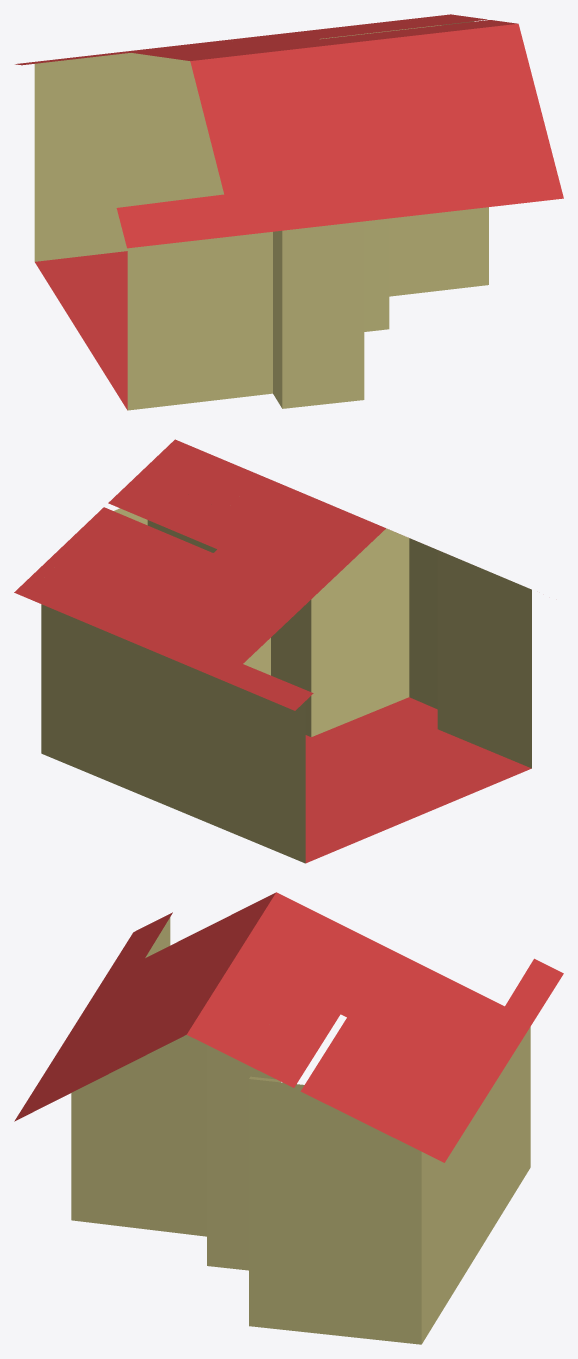
3 views of the same model, one above another, from view 1: azimuth 30°, elevation 25°; view 2: azimuth 150°, elevation 25°; view 3: azimuth 270°, elevation 25° (orthographic). The views are drawn at different scales.
Size of the model in its own units: 20.47 by 19.99 by 11.67.
